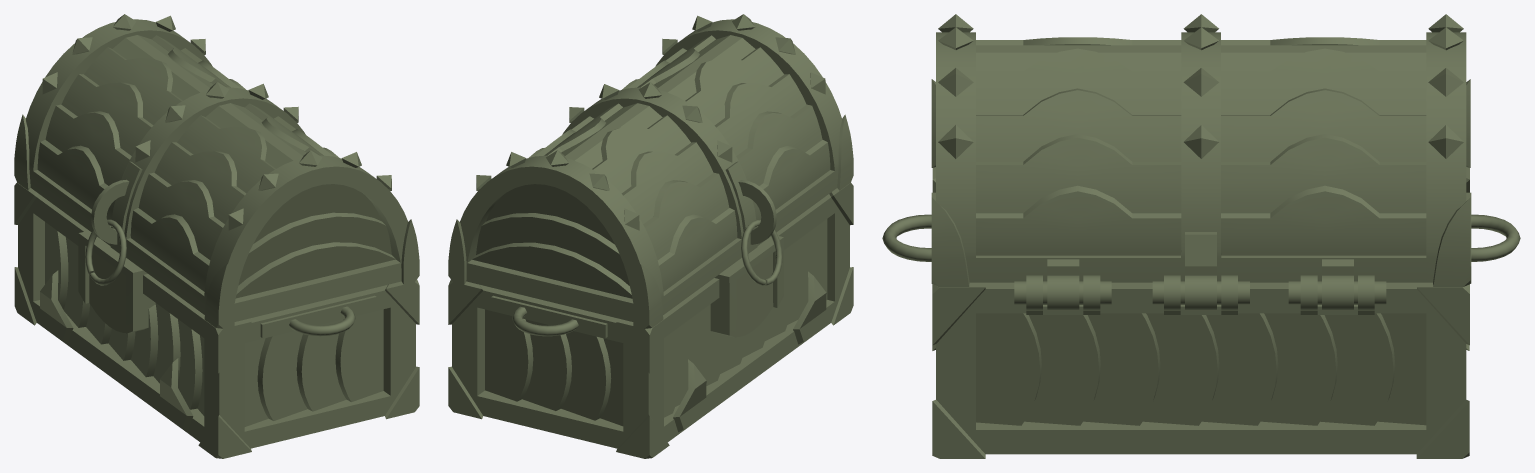
Rendered from Armored_chest.FBX.
The picture shows the model from 3 angles, left to right: view 1: azimuth 30°, elevation 25°; view 2: azimuth 150°, elevation 25°; view 3: azimuth 270°, elevation 25°; orthographic projection. The views are drawn at different scales.
Parts seen in each view (by area): view 1: Armored_chest; view 2: Armored_chest; view 3: Armored_chest.
Boxes of the visible parts, bbox=[...] form: Armored_chest: bbox=[14, 14, 419, 458]; Armored_chest: bbox=[448, 14, 853, 458]; Armored_chest: bbox=[882, 14, 1520, 458].
Bounding box in the file's own units: 126 × 214 × 136.
